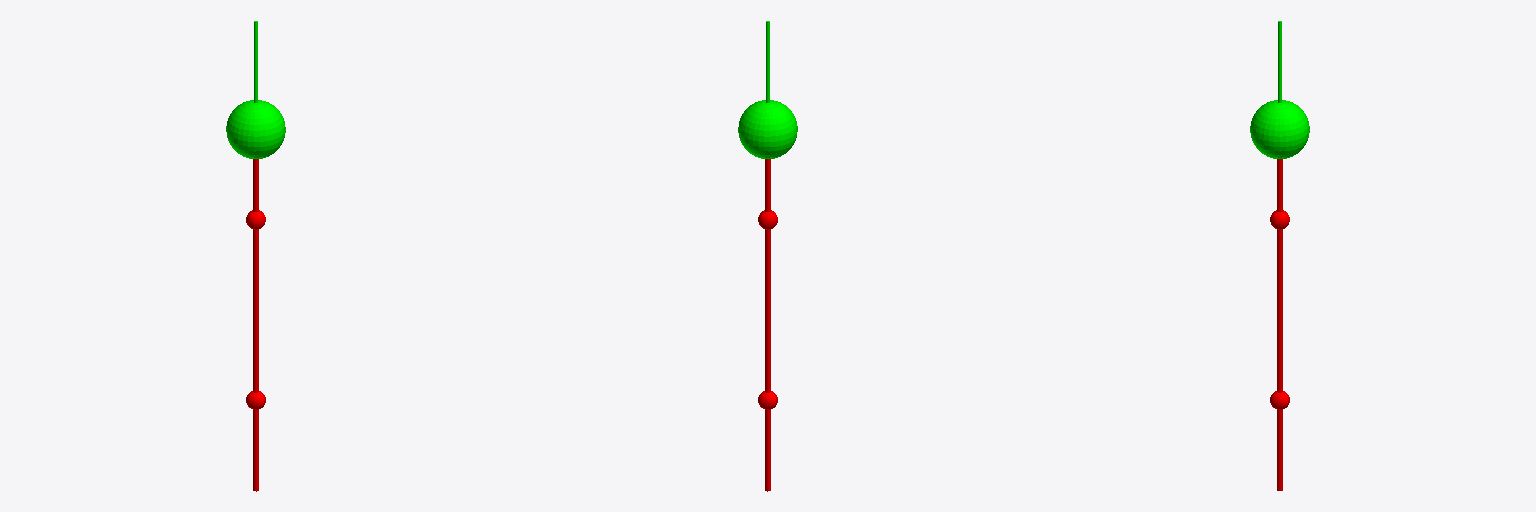
robot.urdf — KneedCompassGait:
<?xml version="1.0" ?>
<robot name="KneedCompassGait">
  
  <link name="base"/>
  <link name="base_x"/>
  <link name="base_xz"/>
  <link name="torso_mass">
    <inertial>
      <mass value="29"/>
      <inertia ixx="4" ixy="0" ixz="0" iyy="4" iyz="0" izz="4"/>
    </inertial>
    <visual>
      <geometry>
        <sphere radius="0.075"/>
      </geometry>
      <material name="green">
        <color rgba="0 1 0 1"/>
      </material>
    </visual>
  </link>
  <link name="torso">
    <visual>
      <origin xyz="0 0 0.15"/>
      <geometry>
        <cylinder length="0.3" radius="0.005"/>
      </geometry>
      <material name="green">
        <color rgba="0 1 0 1"/>
      </material>
    </visual>
  </link>
  <link name="left_upper_leg">
    <visual>
      <origin xyz="0 0 -0.25"/>
      <geometry>
        <cylinder length="0.5" radius="0.0075"/>
      </geometry>
      <material name="red">
        <color rgba="1 0 0 1"/>
      </material>
    </visual>
  </link>
  <link name="left_upper_leg_mass">
    <visual>
      <origin xyz="0 0 -0.25"/>
      <geometry>
        <sphere radius="0.025"/>
      </geometry>
      <material name="red">
        <color rgba="1 0 0 1"/>
      </material>
    </visual>
    <inertial>
      <origin xyz="0 0 -0.25"/>
      <mass value="0.25"/>
      <inertia ixx="0" ixy="0" ixz="0" iyy="0" iyz="0" izz="0"/>
    </inertial>
  </link>
  <joint name="left_upper_leg_mass_weld" type="fixed">
    <parent link="left_upper_leg"/>
    <child link="left_upper_leg_mass"/>
  </joint>
  <link name="left_lower_leg">
    <visual>
      <origin xyz="0 0 -0.25"/>
      <geometry>
        <cylinder length="0.5" radius="0.0075"/>
      </geometry>
      <material name="red">
        <color rgba="1 0 0 1"/>
      </material>
    </visual>
    <collision>
      <origin xyz="0 0 -0.5"/>
      <geometry>
        <sphere radius="0"/>
      </geometry>
    </collision>
  </link>
  <link name="left_lower_leg_mass">
    <visual>
      <origin xyz="0 0 -0.25"/>
      <geometry>
        <sphere radius="0.025"/>
      </geometry>
      <material name="red">
        <color rgba="1 0 0 1"/>
      </material>
    </visual>
    <inertial>
      <origin xyz="0 0 -0.25"/>
      <mass value="0.25"/>
      <inertia ixx="0" ixy="0" ixz="0" iyy="0" iyz="0" izz="0"/>
    </inertial>
  </link>
  <joint name="left_lower_leg_mass_weld" type="fixed">
    <parent link="left_lower_leg"/>
    <child link="left_lower_leg_mass"/>
  </joint>
  <link name="right_upper_leg">
    <visual>
      <origin xyz="0 0 -0.25"/>
      <geometry>
        <cylinder length="0.5" radius="0.0075"/>
      </geometry>
      <material name="blue">
        <color rgba="0 0 1 1"/>
      </material>
    </visual>
  </link>
  <link name="right_upper_leg_mass">
    <visual>
      <origin xyz="0 0 -0.25"/>
      <geometry>
        <sphere radius="0.025"/>
      </geometry>
      <material name="blue">
        <color rgba="0 0 1 1"/>
      </material>
    </visual>
    <inertial>
      <origin xyz="0 0 -0.25"/>
      <mass value="0.25"/>
      <inertia ixx="0" ixy="0" ixz="0" iyy="0" iyz="0" izz="0"/>
    </inertial>
  </link>
  <joint name="right_upper_leg_mass_weld" type="fixed">
    <parent link="right_upper_leg"/>
    <child link="right_upper_leg_mass"/>
  </joint>
  <link name="right_lower_leg">
    <visual>
      <origin xyz="0 0 -0.25"/>
      <geometry>
        <cylinder length="0.5" radius="0.0075"/>
      </geometry>
      <material name="blue">
        <color rgba="0 0 1 1"/>
      </material>
    </visual>
    <collision>
      <origin xyz="0 0 -0.5"/>
      <geometry>
        <sphere radius="0"/>
      </geometry>
    </collision>
  </link>
  <link name="right_lower_leg_mass">
    <visual>
      <origin xyz="0 0 -0.25"/>
      <geometry>
        <sphere radius="0.025"/>
      </geometry>
      <material name="blue">
        <color rgba="0 0 1 1"/>
      </material>
    </visual>
    <inertial>
      <origin xyz="0 0 -0.25"/>
      <mass value="0.25"/>
      <inertia ixx="0" ixy="0" ixz="0" iyy="0" iyz="0" izz="0"/>
    </inertial>
  </link>
  <joint name="planar_x" type="prismatic">
    <parent link="base"/>
    <child link="base_x"/>
    <axis xyz="1 0 0"/>
  </joint>
  <joint name="planar_z" type="prismatic">
    <parent link="base_x"/>
    <child link="base_xz"/>
    <axis xyz="0 0 1"/>
  </joint>  
  <joint name="planar_roty" type="continuous">
    <parent link="base_xz"/>
    <child link="torso"/>
    <axis xyz="0 1 0"/>
  </joint>
  <joint name="torso_mass_weld" type="fixed">
    <parent link="torso"/>
    <child link="torso_mass"/>
    <origin xyz="0 0 0"/>
  </joint>
  <joint name="right_lower_leg_mass_weld" type="fixed">
    <parent link="right_lower_leg"/>
    <child link="right_lower_leg_mass"/>
  </joint>
  <joint name="left_hip_pin" type="continuous">
    <parent link="torso"/>
    <child link="left_upper_leg"/>
    <axis xyz="0 1 0"/>
    <limit effort="500"/>
  </joint>
  <joint name="right_hip_pin" type="continuous">
    <parent link="torso"/>
    <child link="right_upper_leg"/>
    <axis xyz="0 1 0"/>
    <limit effort="500"/>
  </joint>
  <joint name="left_knee_pin" type="continuous">
    <parent link="left_upper_leg"/>
    <child link="left_lower_leg"/>
    <axis xyz="0 1 0"/>
    <origin xyz="0 0 -0.5"/>
    <limit effort="400" lower="0"/>
  </joint>
  <joint name="right_knee_pin" type="revolute">
    <parent link="right_upper_leg"/>
    <child link="right_lower_leg"/>
    <axis xyz="0 1 0"/>
    <origin xyz="0 0 -0.5"/>
    <limit effort="400" lower="0"/>
  </joint>
  <transmission name="left_hip_trans" type="SimpleTransmission">
    <actuator name="left_hip_torque"/>
    <joint name="left_hip_pin"/>
    <mechanicalReduction>1</mechanicalReduction>
  </transmission>  
  <transmission name="right_hip_trans" type="SimpleTransmission">
    <actuator name="right_hip_torque"/>
    <joint name="right_hip_pin"/>
    <mechanicalReduction>1</mechanicalReduction>
  </transmission>
  <transmission name="left_knee_trans" type="SimpleTransmission">
    <actuator name="left_knee_torque"/>
    <joint name="left_knee_pin"/>
    <mechanicalReduction>1</mechanicalReduction>
  </transmission>
  <transmission name="right_knee_trans" type="SimpleTransmission">
    <actuator name="right_knee_torque"/>
    <joint name="right_knee_pin"/>
    <mechanicalReduction>1</mechanicalReduction>
  </transmission>
  <collision_filter_group name="robot_links">
    <member link="left_lower_leg_mass"/>
    <member link="right_lower_leg_mass"/>
    <member link="left_lower_leg"/>
    <member link="right_lower_leg"/>
    <member link="right_upper_leg"/>
    <member link="left_upper_leg"/>
    <member link="torso"/>
    <member link="torso_mass"/>
    <ignored_collision_filter_group collision_filter_group="robot_links"/>
  </collision_filter_group>
</robot>

--- Render facts (derived) ---
3 views of the same robot in one strip: view 1: azimuth 30°, elevation 25°; view 2: azimuth 150°, elevation 25°; view 3: azimuth 270°, elevation 25° (orthographic).
Model KneedCompassGait with 13 links and 12 joints (1 revolute, 4 continuous, 2 prismatic, 5 fixed), rooted at base, posed all joints at 0.
Links seen in each view (by area): view 1: torso_mass, left_lower_leg, left_upper_leg; view 2: torso_mass, left_lower_leg, left_upper_leg; view 3: torso_mass, left_lower_leg, left_upper_leg.
Boxes of the visible links, x1,y1,x2,y2 form: torso_mass: (226,100,285,158); left_lower_leg: (253,311,258,491); left_upper_leg: (253,159,258,310); torso_mass: (738,100,797,158); left_lower_leg: (765,311,770,491); left_upper_leg: (765,159,770,310); torso_mass: (1250,100,1309,158); left_lower_leg: (1277,311,1282,490); left_upper_leg: (1277,159,1282,310).
Bounding box of the posed robot: 0.15 × 0.15 × 1.3 m (x, y, z).
Geometry: primitives only (box / cylinder / sphere), no mesh files.
